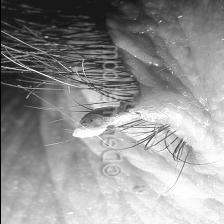Potentially Malignant Skin Tumors: (68, 102, 128, 142)
